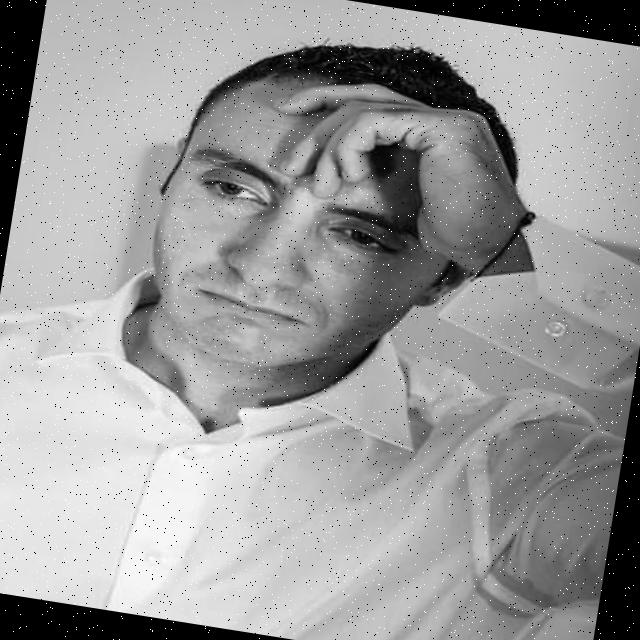Sadness: (161, 89, 426, 385)
